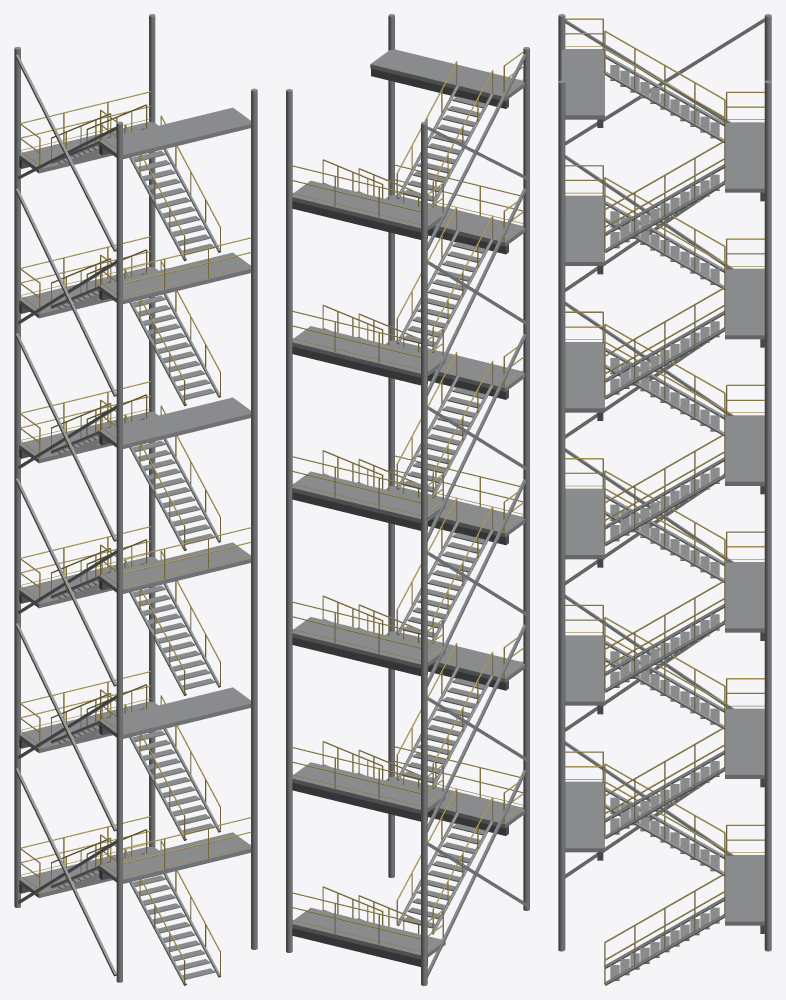
File: stair_e_hi.glb
3 views of the same model, side by side, from view 1: azimuth 30°, elevation 25°; view 2: azimuth 150°, elevation 25°; view 3: azimuth 270°, elevation 25° (orthographic).
Parts seen in each view (by area): view 1: stair_e_hi; view 2: stair_e_hi; view 3: stair_e_hi.
Boxes of the visible parts, left/top/right/bottom form: stair_e_hi: left=14, top=14, right=257, bottom=985; stair_e_hi: left=286, top=14, right=529, bottom=985; stair_e_hi: left=558, top=14, right=771, bottom=985.
Size of the model in its own units: 5.36 by 32.6 by 6.92.
